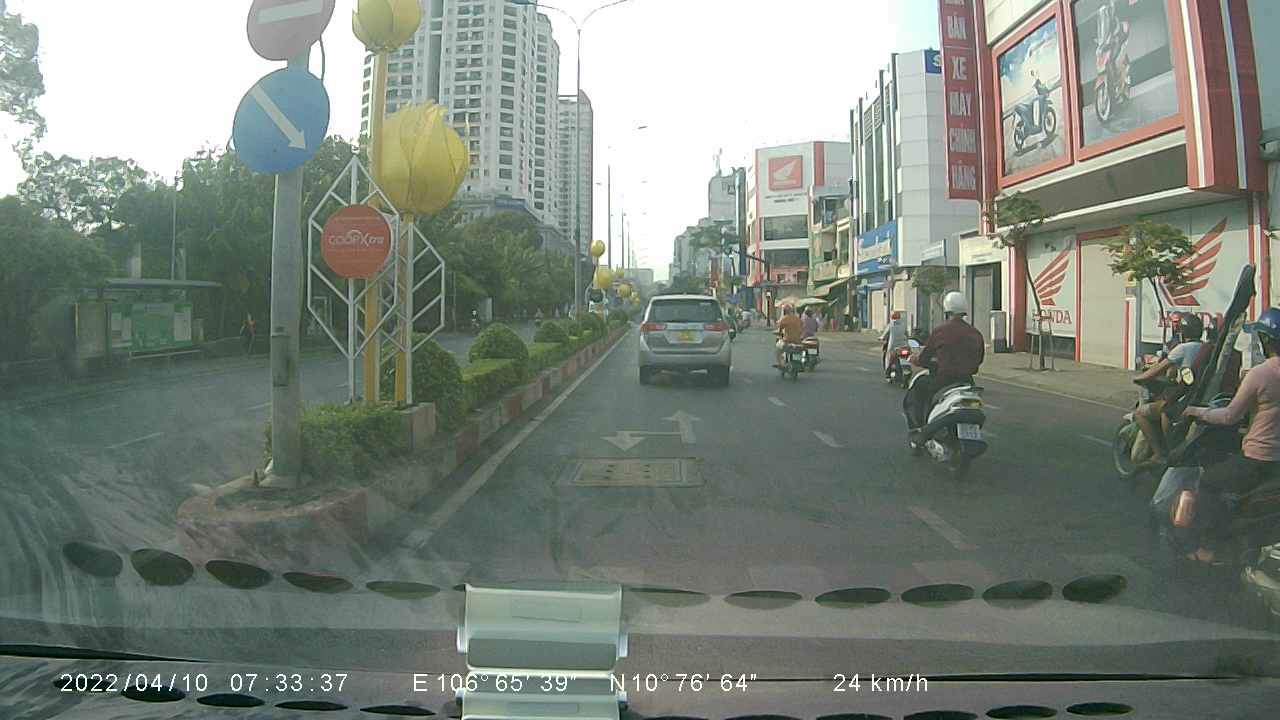Cam di nguoc chieu: (244, 0, 332, 62)
Huong di phai re phai: (227, 66, 334, 181)
